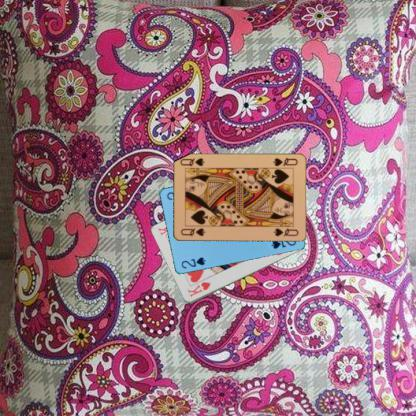2s: (179, 255, 206, 270)
Kh: (185, 280, 211, 298)
Qs: (271, 156, 298, 168), (178, 226, 206, 237)
